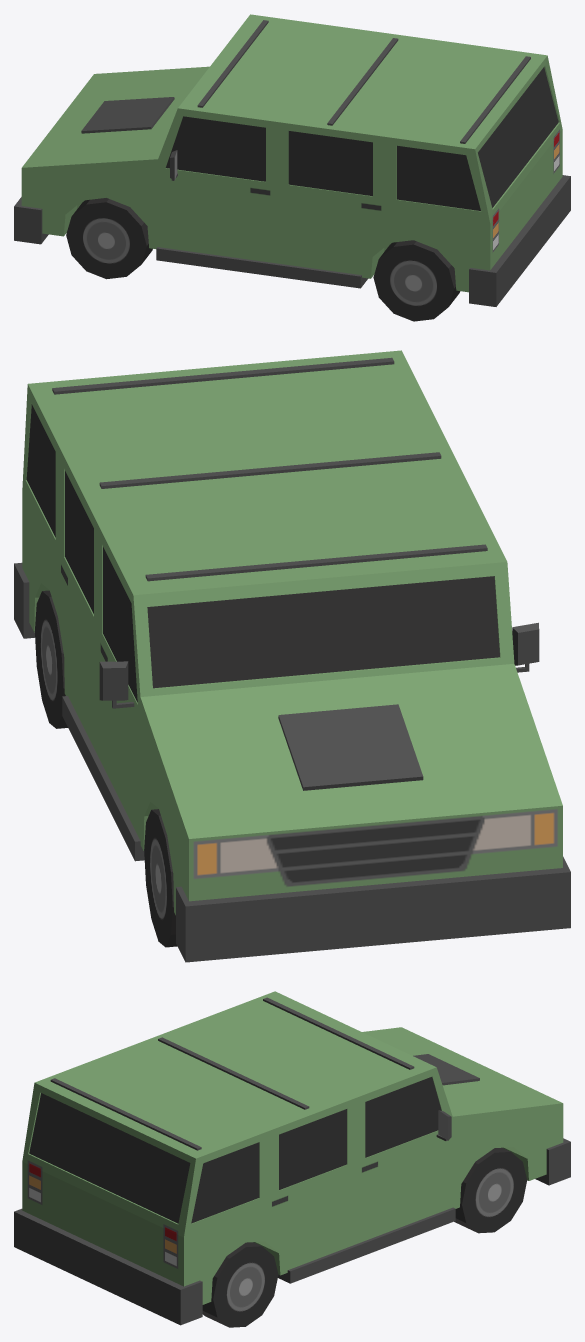
File: Car7_suv3.glb
3 renders of one model, top to bottom at view 1: azimuth 30°, elevation 25°; view 2: azimuth 150°, elevation 25°; view 3: azimuth 270°, elevation 25°, orthographic. The views are drawn at different scales.
Parts seen in each view (by area): view 1: Vehicle_SUV_color03.001; view 2: Vehicle_SUV_color03.001; view 3: Vehicle_SUV_color03.001.
Boxes of the visible parts, <box> form: Vehicle_SUV_color03.001: <box>14,14,570,321</box>; Vehicle_SUV_color03.001: <box>14,350,570,962</box>; Vehicle_SUV_color03.001: <box>14,991,570,1327</box>.
Bounding box in the file's own units: 1.46 × 0.5687 × 1.52.
Materials: 1 (1 with a texture image).
